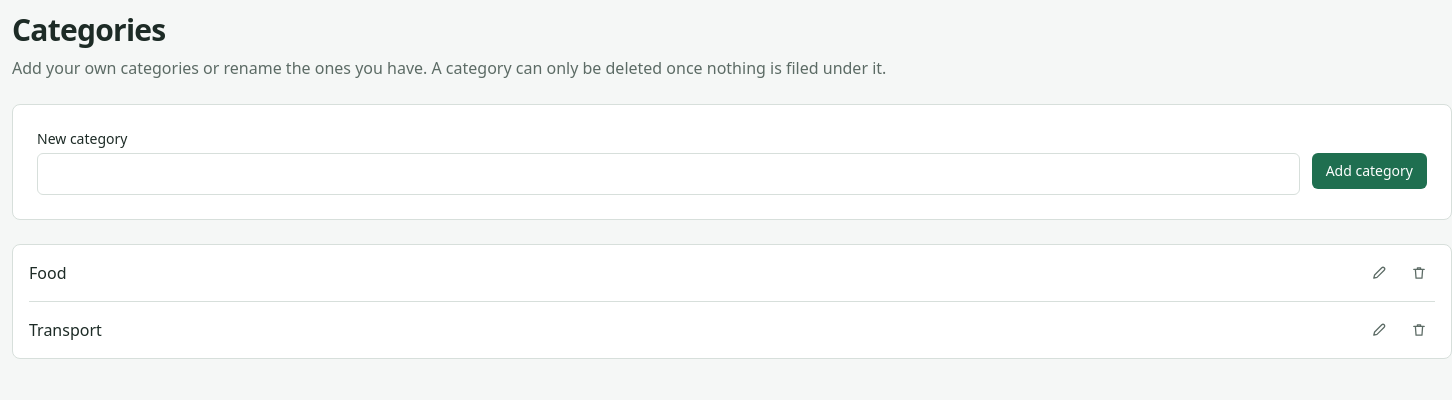
CategoriesPage › shows the server's message when the name is taken
Expected: the text "Food" is shown, x1=29 y1=262 x2=66 y2=284
Type "food" into the field labelled "New category".
click(668, 174); type("food")  # box x1=37 y1=153 x2=1300 y2=195
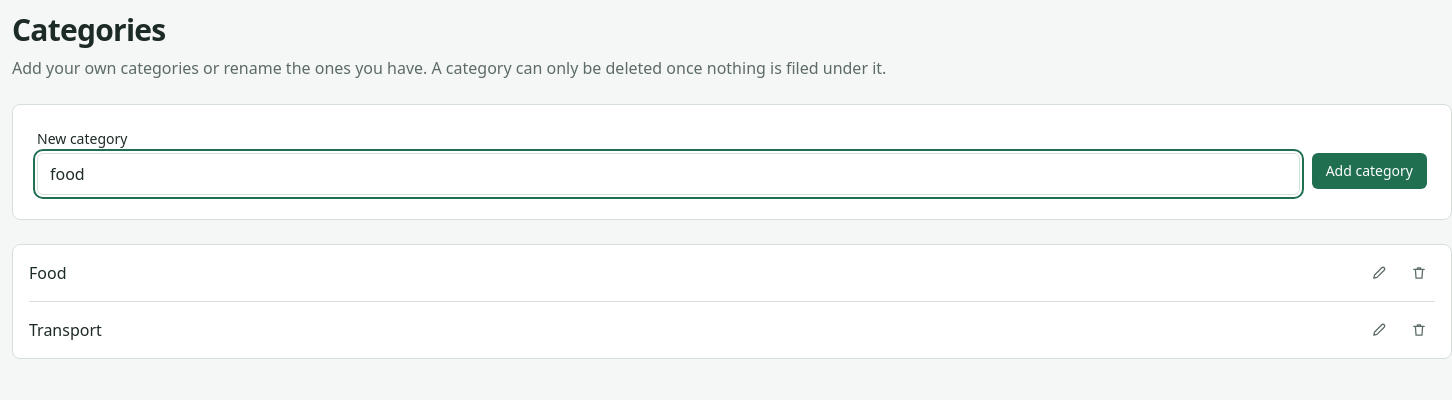
Click the button "Add category".
click(1369, 171)  # box x1=1312 y1=153 x2=1427 y2=189
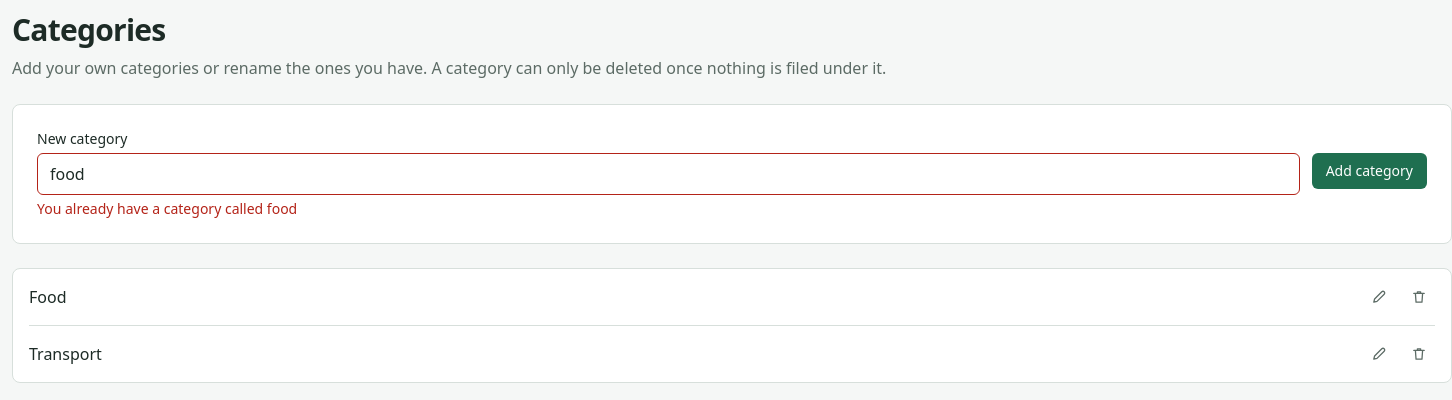
Expected: the text "You already have a category called food" is shown, x1=37 y1=199 x2=297 y2=218
